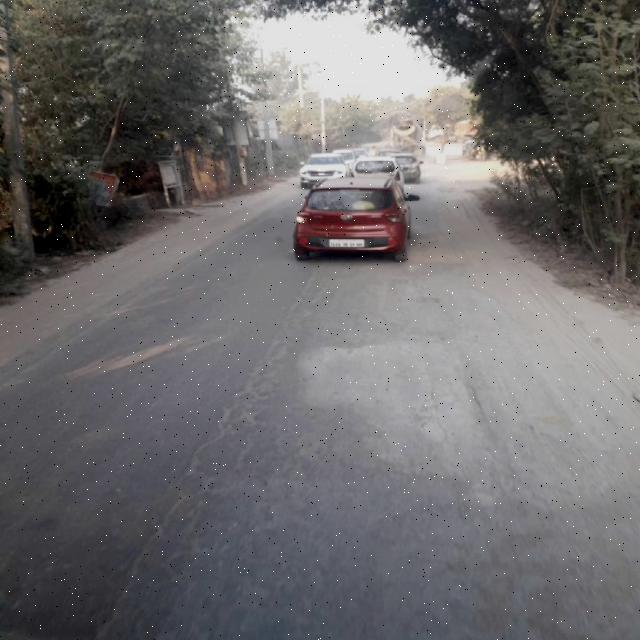D00: (110, 274, 313, 610)
D20: (107, 279, 633, 634)
